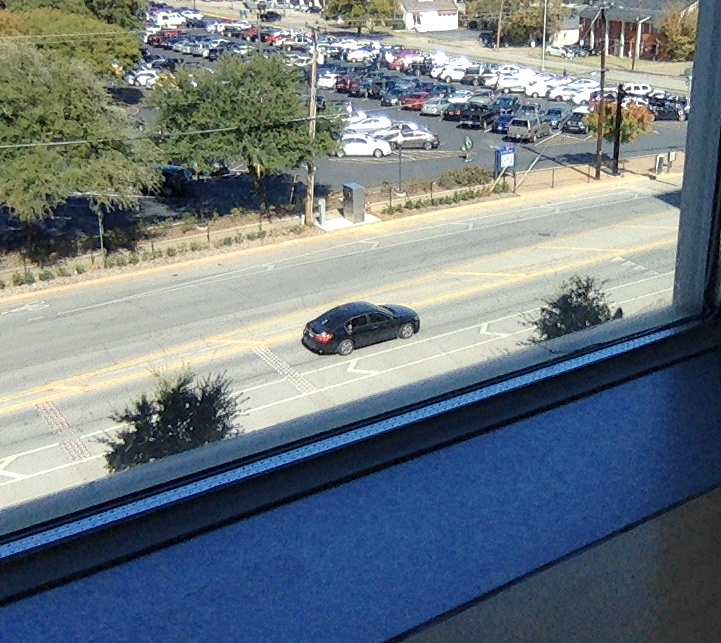car: (300, 300, 421, 358)
